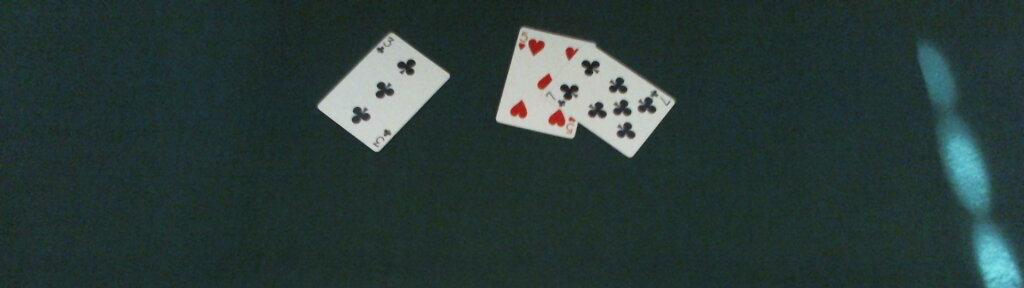five: (495, 27, 597, 138)
seven: (541, 43, 674, 157)
three: (317, 32, 451, 152)
